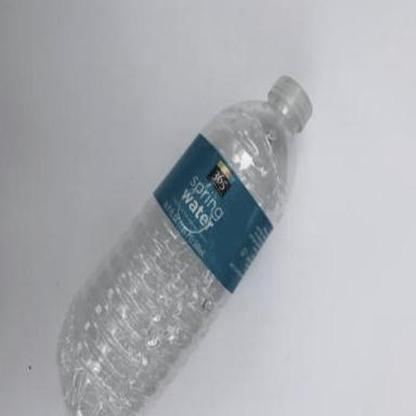plastic bottle: (55, 74, 318, 416)
